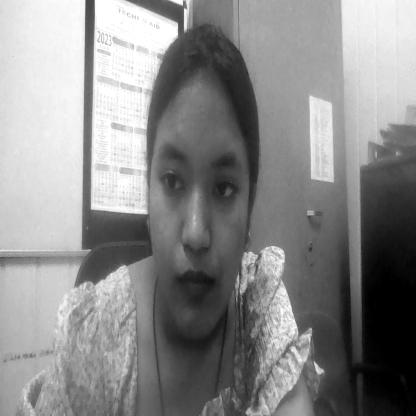Normal: (157, 106, 249, 343)
